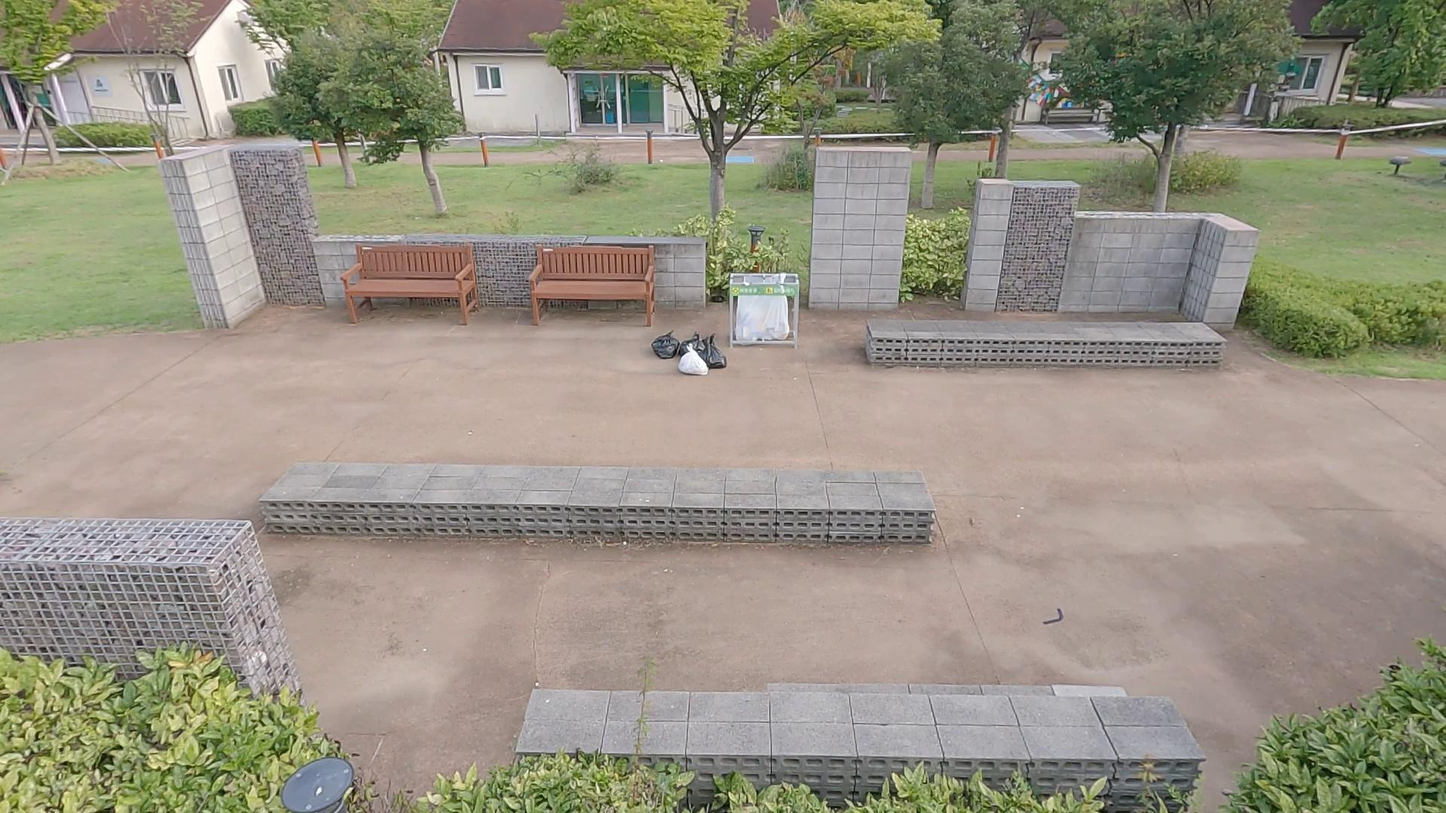trash: (677, 343, 709, 380), (675, 330, 708, 363), (649, 331, 681, 362), (704, 333, 726, 371)
